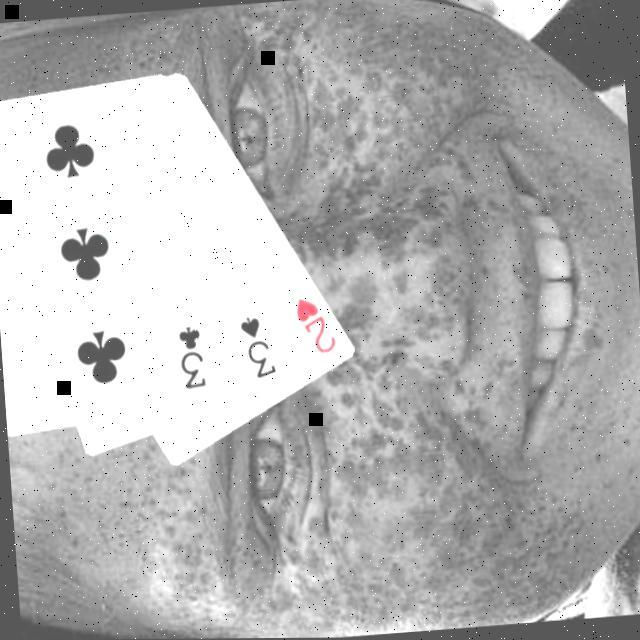2H: (290, 292, 338, 360)
3C: (173, 324, 210, 394)
3S: (234, 313, 280, 384)
